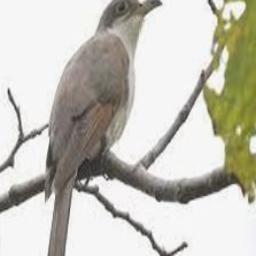Cuckoo: (41, 0, 163, 256)
